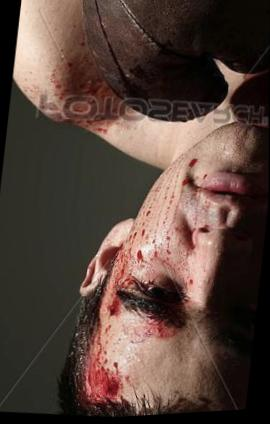Fire: (103, 144, 201, 349), (86, 276, 124, 403)
